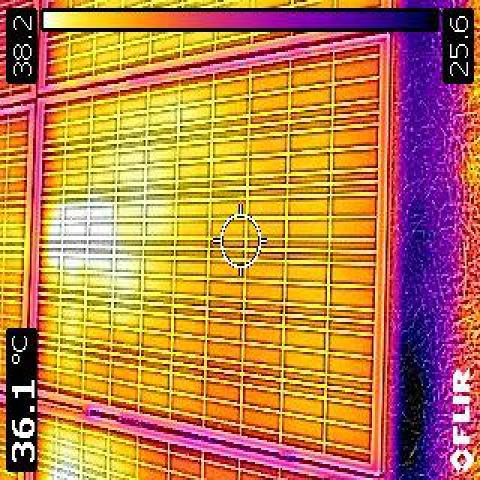fault: (49, 196, 138, 286)
